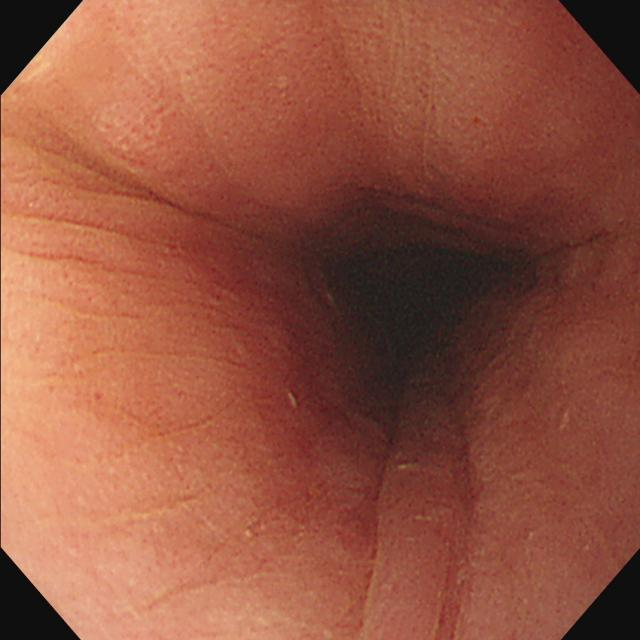E: (325, 212, 521, 393)
